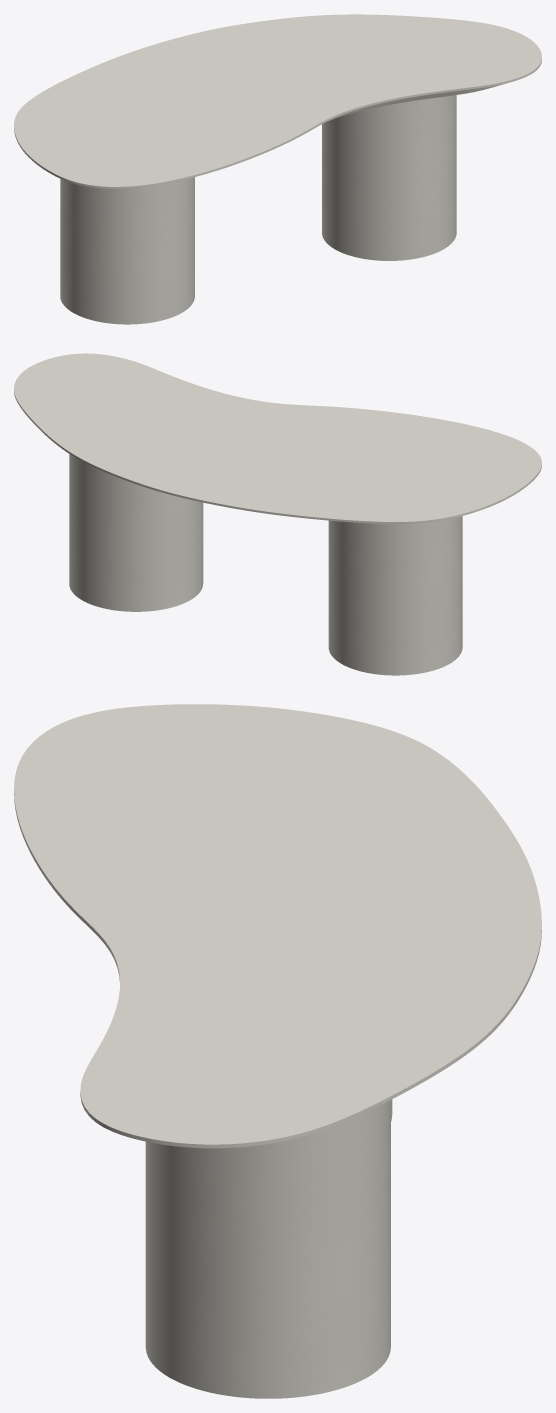
The model's file is pale_leaf1_facet_stream.glb.
The picture shows the model from 3 angles, top to bottom: view 1: azimuth 30°, elevation 25°; view 2: azimuth 150°, elevation 25°; view 3: azimuth 270°, elevation 25°; orthographic projection. The views are drawn at different scales.
Parts seen in each view (by area): view 1: facet_leaf1, stream; view 2: facet_leaf1, stream; view 3: facet_leaf1, stream.
Boxes of the visible parts, x1,y1,x2,y2 form: facet_leaf1: (14, 14, 541, 188); stream: (60, 95, 456, 324); facet_leaf1: (14, 353, 541, 523); stream: (69, 454, 462, 675); facet_leaf1: (14, 704, 541, 1148); stream: (145, 1099, 392, 1398).
Size of the model in its own units: 7.5 by 2.5 by 3.8.
Materials: 1 (1 with a texture image).
